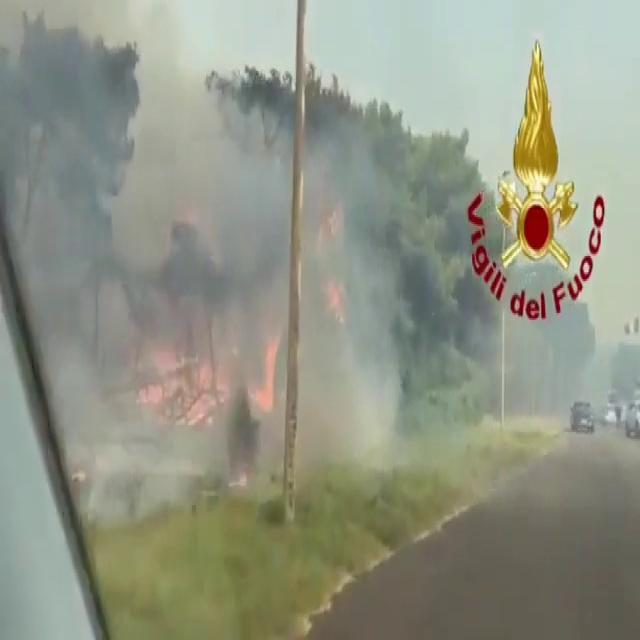Smoke: (95, 6, 412, 483)
